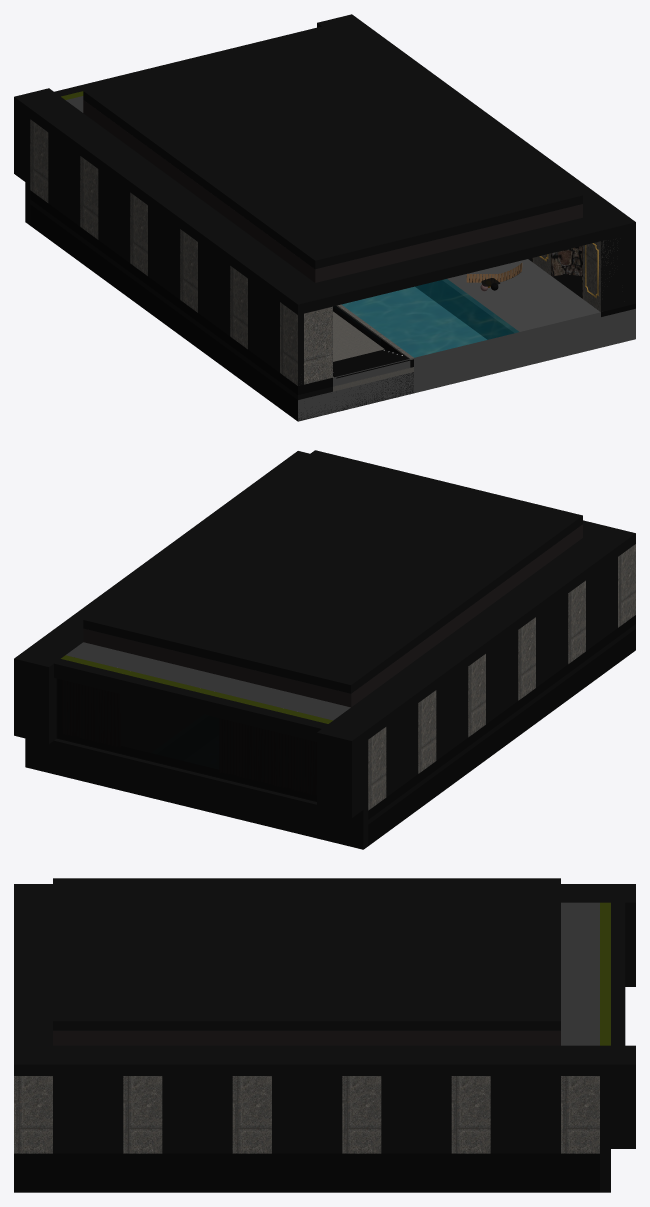
Rendered from res-lobby.glb.
3 views of the same model, one above another, from view 1: azimuth 30°, elevation 25°; view 2: azimuth 150°, elevation 25°; view 3: azimuth 270°, elevation 25° (orthographic). The views are drawn at different scales.
Parts seen in each view (by area): view 1: Hall_3, Hall_0, Hall_184, Hall_9, Hall_8, Hall_236, Hall_5, Hall_186, Hall_1, Hall_845, Hall_200; view 2: Hall_3, Hall_800, Hall_184, Hall_236, Hall_9, Hall_5, Hall_186, Hall_539; view 3: Hall_3, Hall_9, Hall_184, Hall_236, Hall_5, Hall_186, Hall_539.
Part boxes in pixels (x1=…): Hall_3: x1=14, y1=14, x2=635, y2=399; Hall_0: x1=298, y1=259, x2=635, y2=421; Hall_184: x1=30, y1=119, x2=617, y2=385; Hall_9: x1=30, y1=204, x2=513, y2=421; Hall_8: x1=341, y1=279, x2=518, y2=357; Hall_236: x1=83, y1=100, x2=582, y2=282; Hall_5: x1=66, y1=96, x2=486, y2=357; Hall_186: x1=30, y1=190, x2=635, y2=394; Hall_1: x1=333, y1=311, x2=413, y2=391; Hall_845: x1=333, y1=349, x2=410, y2=378; Hall_200: x1=532, y1=245, x2=582, y2=298; Hall_3: x1=14, y1=450, x2=635, y2=849; Hall_800: x1=56, y1=678, x2=316, y2=801; Hall_184: x1=368, y1=544, x2=635, y2=810; Hall_236: x1=83, y1=524, x2=582, y2=707; Hall_9: x1=368, y1=629, x2=635, y2=845; Hall_5: x1=66, y1=642, x2=350, y2=720; Hall_186: x1=368, y1=615, x2=635, y2=819; Hall_539: x1=61, y1=655, x2=332, y2=723; Hall_3: x1=14, y1=878, x2=635, y2=1192; Hall_9: x1=14, y1=1159, x2=599, y2=1192; Hall_184: x1=14, y1=1076, x2=599, y2=1153; Hall_236: x1=53, y1=1030, x2=560, y2=1045; Hall_5: x1=561, y1=902, x2=599, y2=1045; Hall_186: x1=14, y1=1153, x2=599, y2=1159; Hall_539: x1=600, y1=902, x2=610, y2=1045.
Size of the model in its own units: 15.17 by 5.98 by 22.08.
37 materials, 7 textured.
